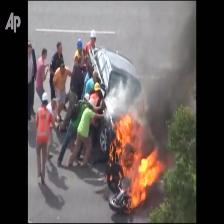fire: (108, 112, 165, 209)
